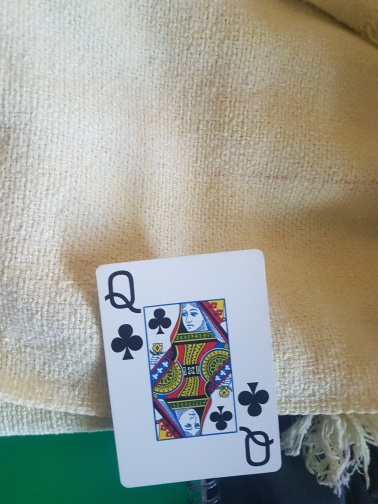queen: (94, 249, 283, 487)
